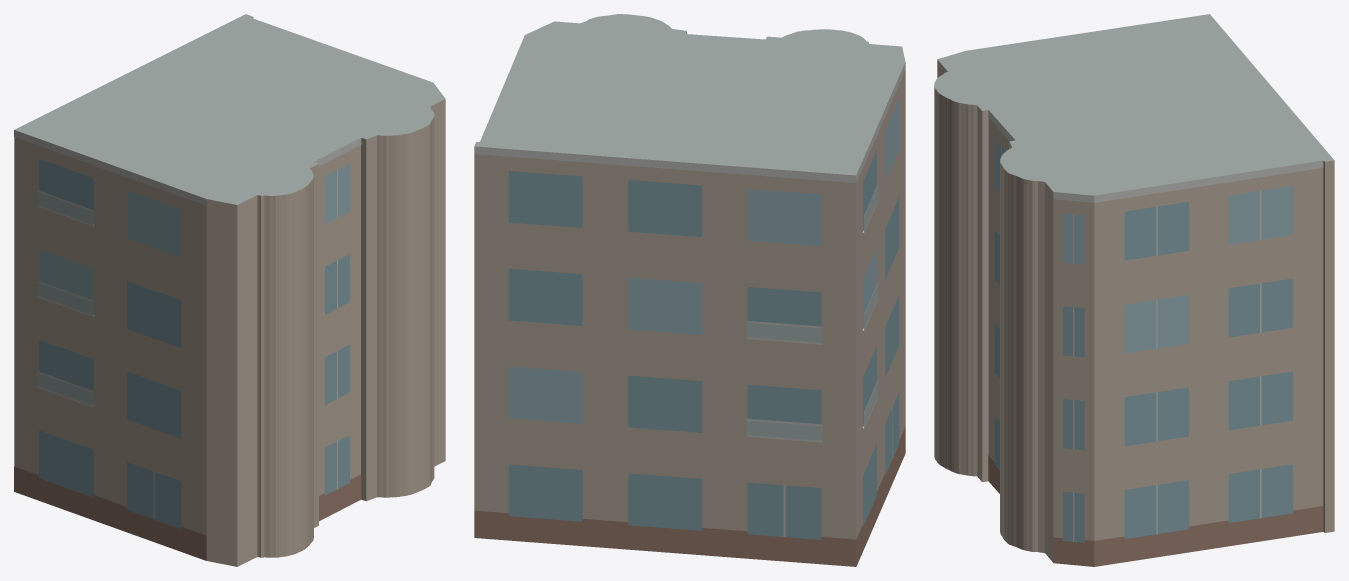
Rendered from survey-upis-32672507.glb.
3 renders of one model, left to right at view 1: azimuth 30°, elevation 25°; view 2: azimuth 150°, elevation 25°; view 3: azimuth 270°, elevation 25°, orthographic. The views are drawn at different scales.
Visible parts, largest first — view 1: survey-upis-32672507.tmp; view 2: survey-upis-32672507.tmp; view 3: survey-upis-32672507.tmp.
Boxes of the visible parts, x1,y1,x2,y2 form: survey-upis-32672507.tmp: [14, 14, 445, 566]; survey-upis-32672507.tmp: [474, 14, 905, 566]; survey-upis-32672507.tmp: [934, 14, 1334, 566].
Size of the model in its own units: 13.23 by 12.6 by 12.32.
